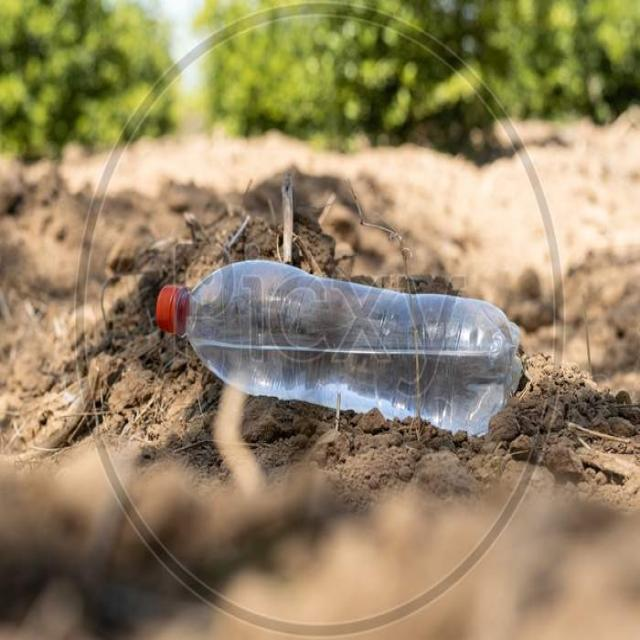bottle: (155, 259, 518, 438)
